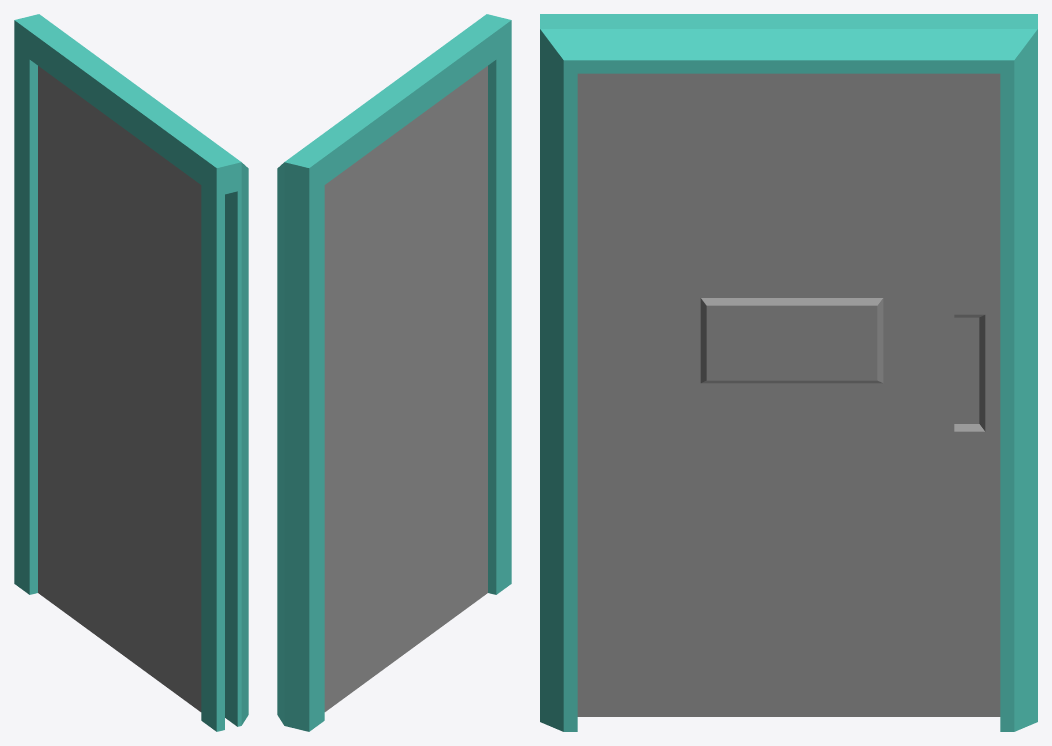
File: Slideing Deadelus Door.fbx
3 views of the same model, side by side, from view 1: azimuth 30°, elevation 25°; view 2: azimuth 150°, elevation 25°; view 3: azimuth 270°, elevation 25° (orthographic). The views are drawn at different scales.
Parts seen in each view (by area): view 1: Body2, Body1; view 2: Body2, Body1; view 3: Body2, Body1.
Part boxes in pixels (x1,y1,x2,y2): Body2: [38, 66, 201, 711]; Body1: [14, 14, 248, 731]; Body2: [324, 66, 487, 711]; Body1: [277, 14, 511, 731]; Body2: [577, 73, 1000, 716]; Body1: [540, 14, 1037, 731].
Bounding box in the file's own units: 1 × 12.99 × 8.45.
